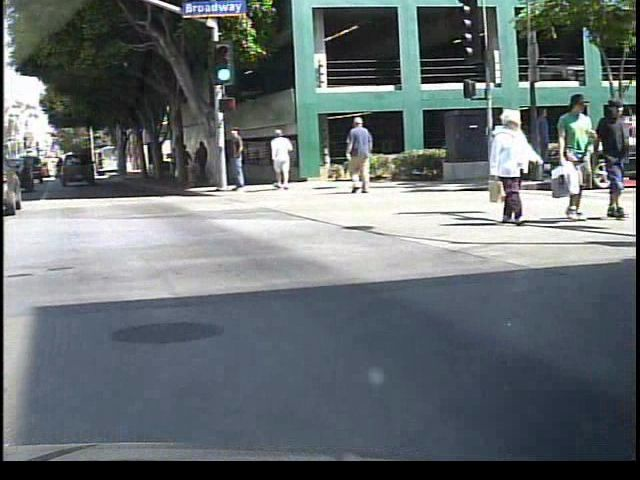person: (485, 106, 544, 227), (555, 94, 597, 225), (594, 99, 631, 221), (347, 116, 383, 195), (224, 121, 254, 202), (529, 105, 559, 181), (271, 125, 299, 194), (195, 137, 213, 185), (182, 142, 198, 187)
